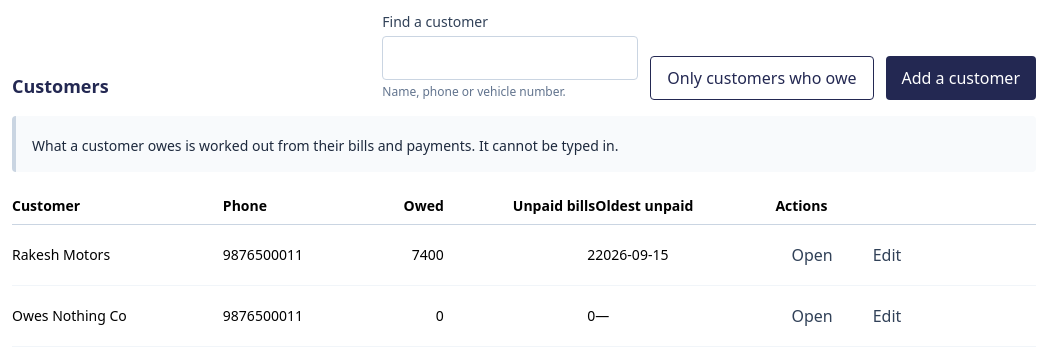
Test case: the list › filters to customers who owe when asked, without hiding the rest by default
This screenshot has width=1048, height=364.
Expected: the text "Owes Nothing Co" is shown, [12,286,223,346]
Click the button "Only customers who owe". click: point(762, 78)
box: [650,56,874,100]
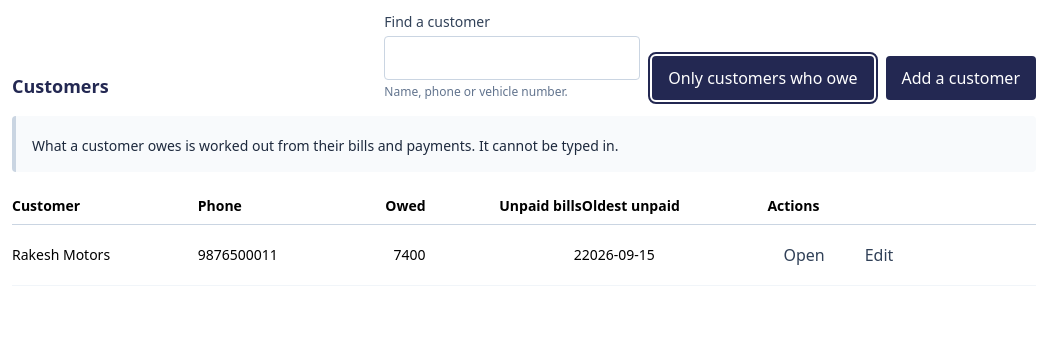
Expected: the text "Rakesh Motors" is shown, [12,225,198,286]
Expected: the text "Owes Nothing Co" is gone
